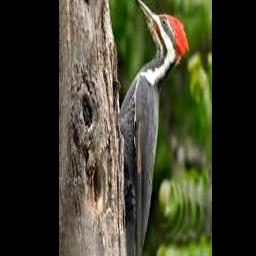Woodpecker: (118, 0, 189, 256)
